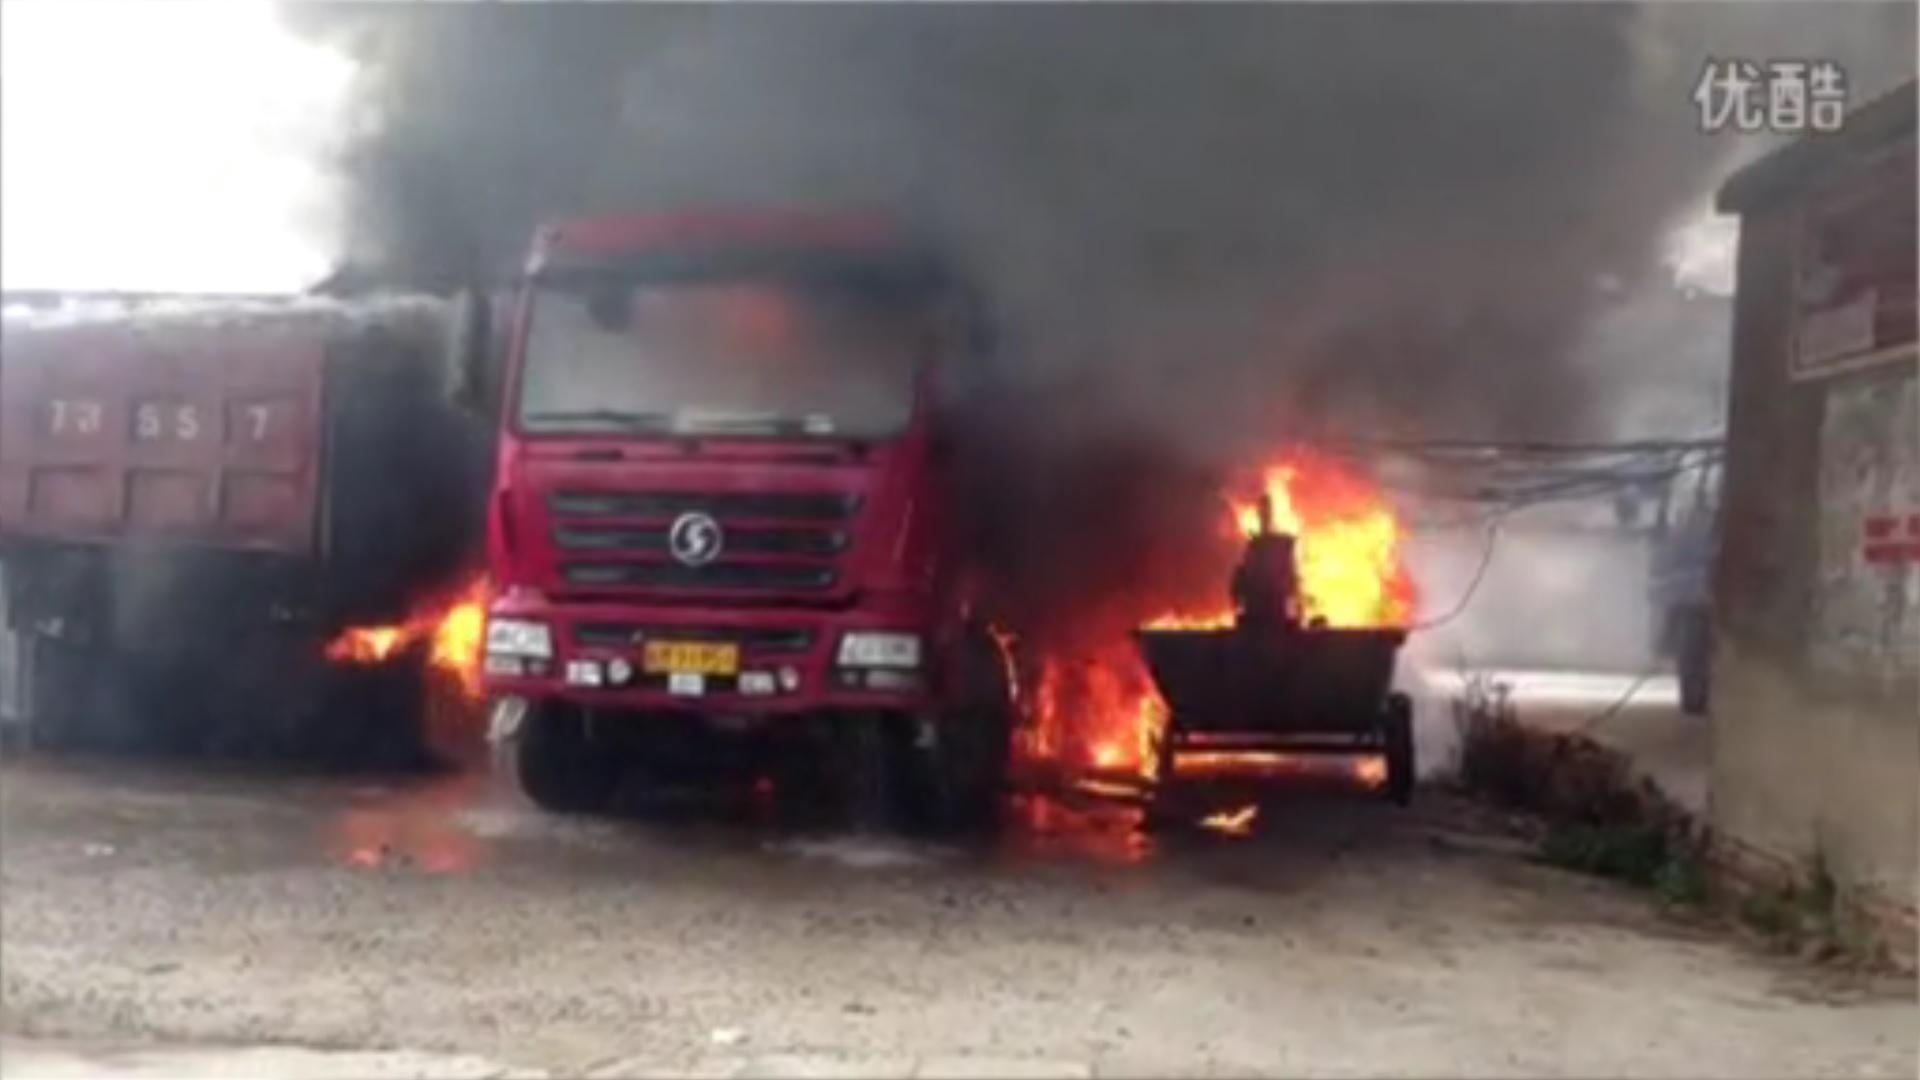fire: (1150, 458, 1418, 636), (1035, 653, 1164, 767), (332, 588, 492, 673)
